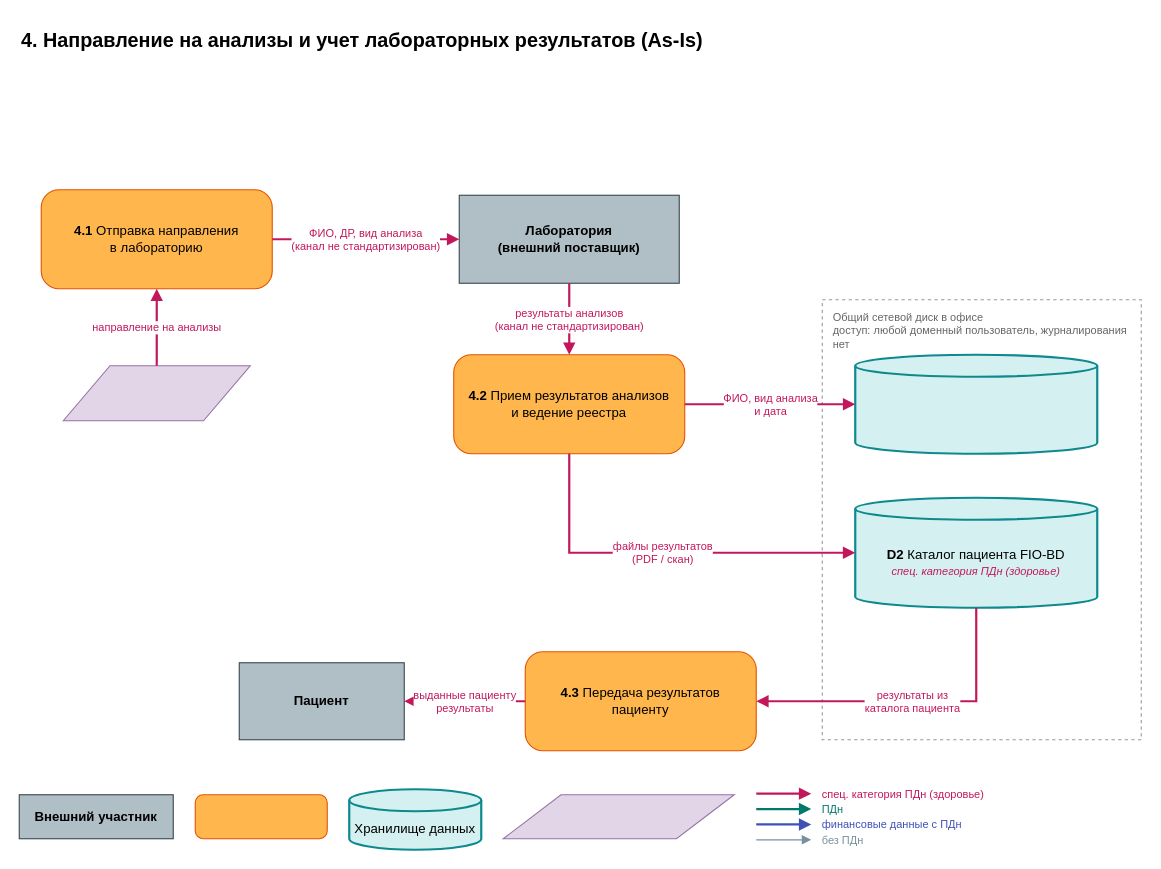
This 1161x869 diagram has some shape labels left out. Here are the shapes that lost their labels. From the top down, the centre of each, then its label:
At [156,393]: "← Схема 3. Консультация врача".
At [976,403]: "D4 Реестр анализов за день RegistryByDate.xlsx спец. категория ПДн (здоровье)".
At [260,816]: "Процесс (обработка)".
At [618,816]: "Ссылка на другой DFD".
